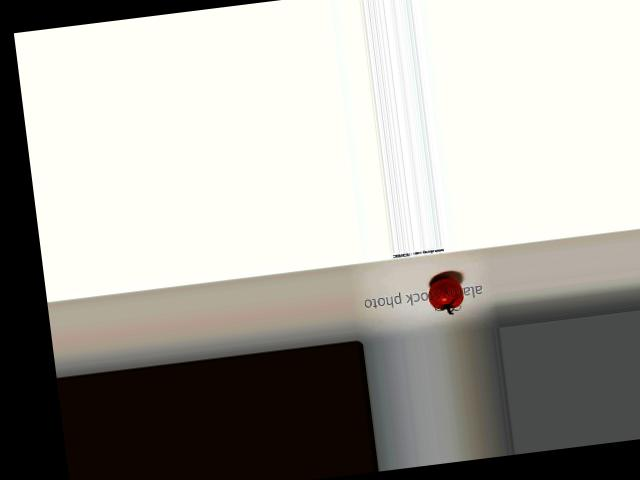tomato: (426, 275, 464, 311)
